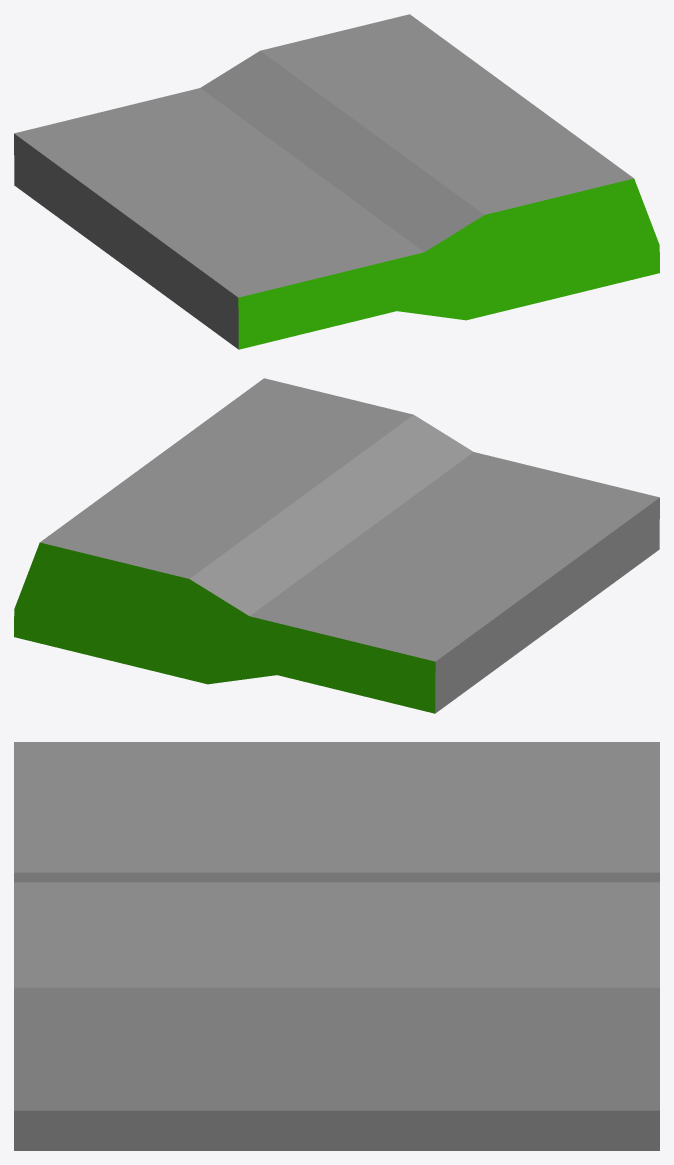
The model's file is SMB_groundDetail_C.fbx.
3 renders of one model, top to bottom at view 1: azimuth 30°, elevation 25°; view 2: azimuth 150°, elevation 25°; view 3: azimuth 270°, elevation 25°, orthographic. The views are drawn at different scales.
Visible parts, largest first — view 1: SMB_groundDetail_C; view 2: SMB_groundDetail_C; view 3: SMB_groundDetail_C.
Part boxes in pixels (x1,y1,x2,y2): SMB_groundDetail_C: (14,14,659,349); SMB_groundDetail_C: (14,378,659,713); SMB_groundDetail_C: (14,742,659,1150).
Size of the model in its own units: 1085 by 248 by 1000.
